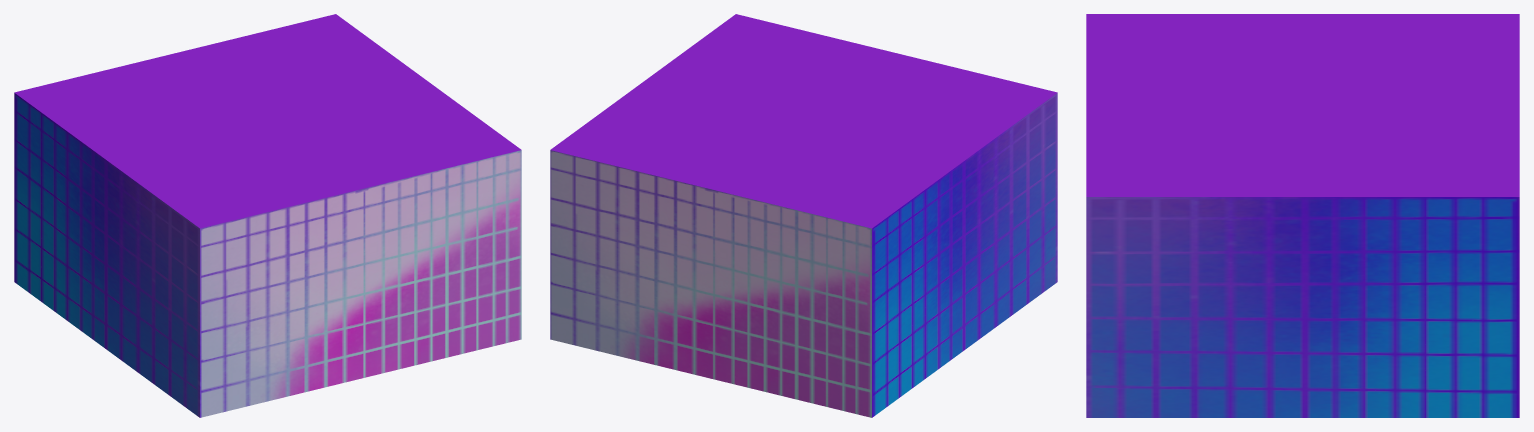
Rendered from Build_B_Bot.obj.
3 views of the same model, side by side, from view 1: azimuth 30°, elevation 25°; view 2: azimuth 150°, elevation 25°; view 3: azimuth 270°, elevation 25° (orthographic). The views are drawn at different scales.
Parts seen in each view (by area): view 1: Build_B_Bot; view 2: Build_B_Bot; view 3: Build_B_Bot.
Boxes of the visible parts, x1,y1,x2,y2 form: Build_B_Bot: [14, 14, 521, 417]; Build_B_Bot: [550, 14, 1057, 417]; Build_B_Bot: [1086, 14, 1519, 417].
Bounding box in the file's own units: 40 × 22.5 × 40.
Materials: 1 (1 with a texture image).
